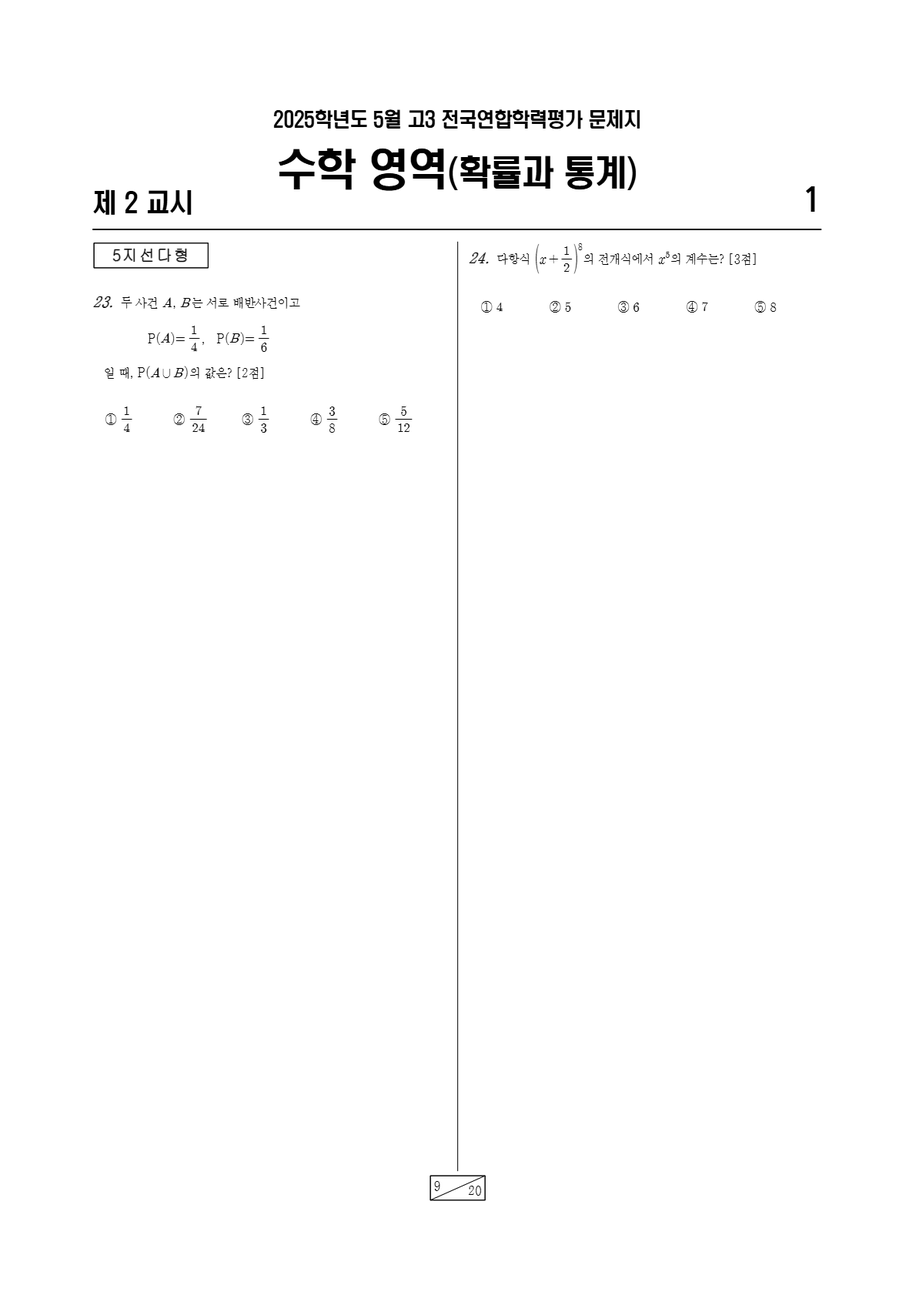opt_1: (480, 300, 492, 313), (105, 413, 117, 425)
opt_2: (172, 412, 186, 427), (549, 299, 560, 313)
opt_3: (241, 410, 255, 427), (617, 299, 629, 313)
opt_4: (309, 412, 322, 426), (686, 299, 697, 313)
opt_5: (754, 299, 766, 313), (379, 412, 390, 426)
